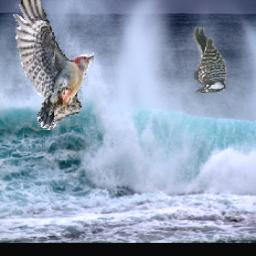Woodpecker: (14, 0, 95, 131), (192, 27, 227, 94)
